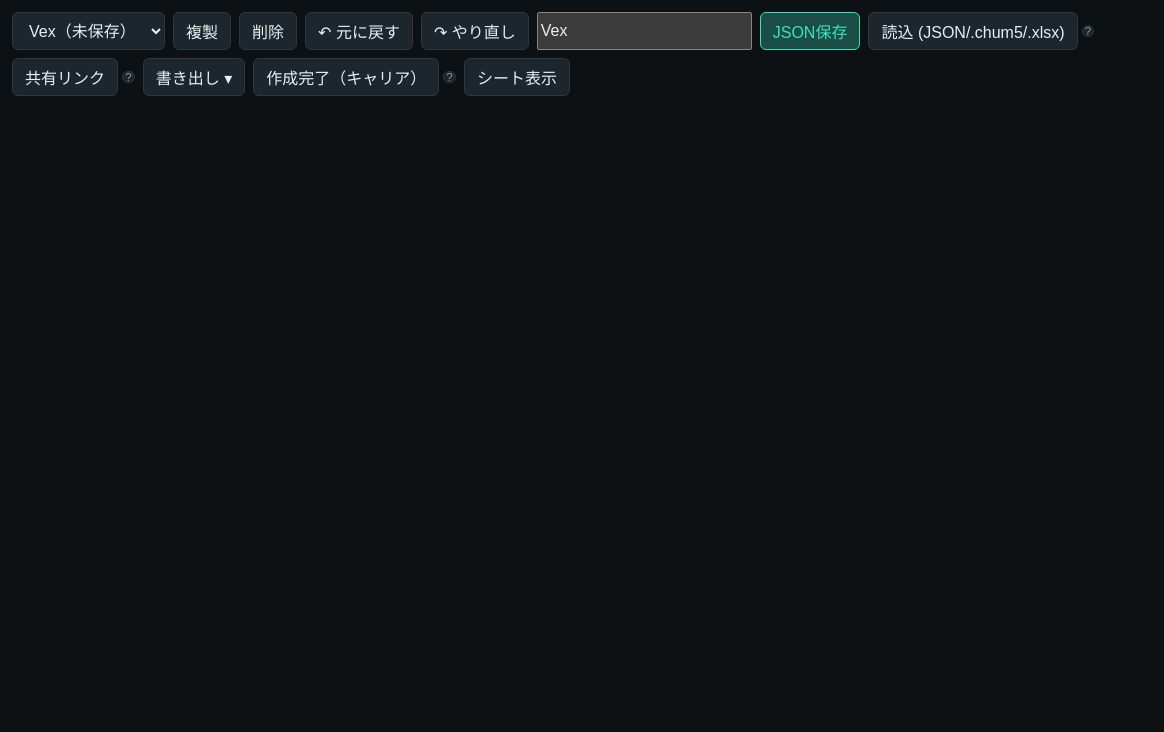
Test: <Toolbar> › keeps the conversions behind 書き出し, and closes it again
Expected: the button ".chum5書出" is not shown
Expected: the button ".xlsx書出" is not shown
Click the button "書き出し ▾".
click(194, 77)  # box top-left (143, 58), bottom-right (245, 96)
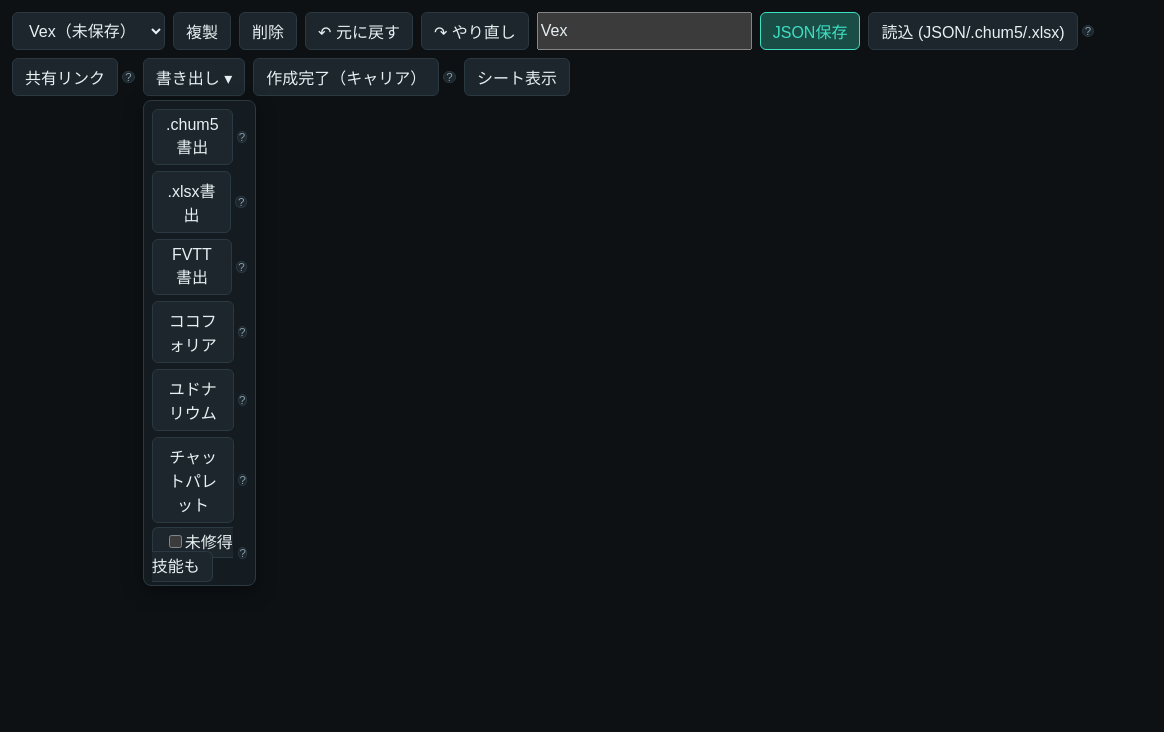
Result: the button ".chum5書出" is shown at top-left (152, 109), bottom-right (233, 165)
Click the button named ".xlsx書出 の説明".
click(241, 202)  # box top-left (235, 196), bottom-right (247, 208)
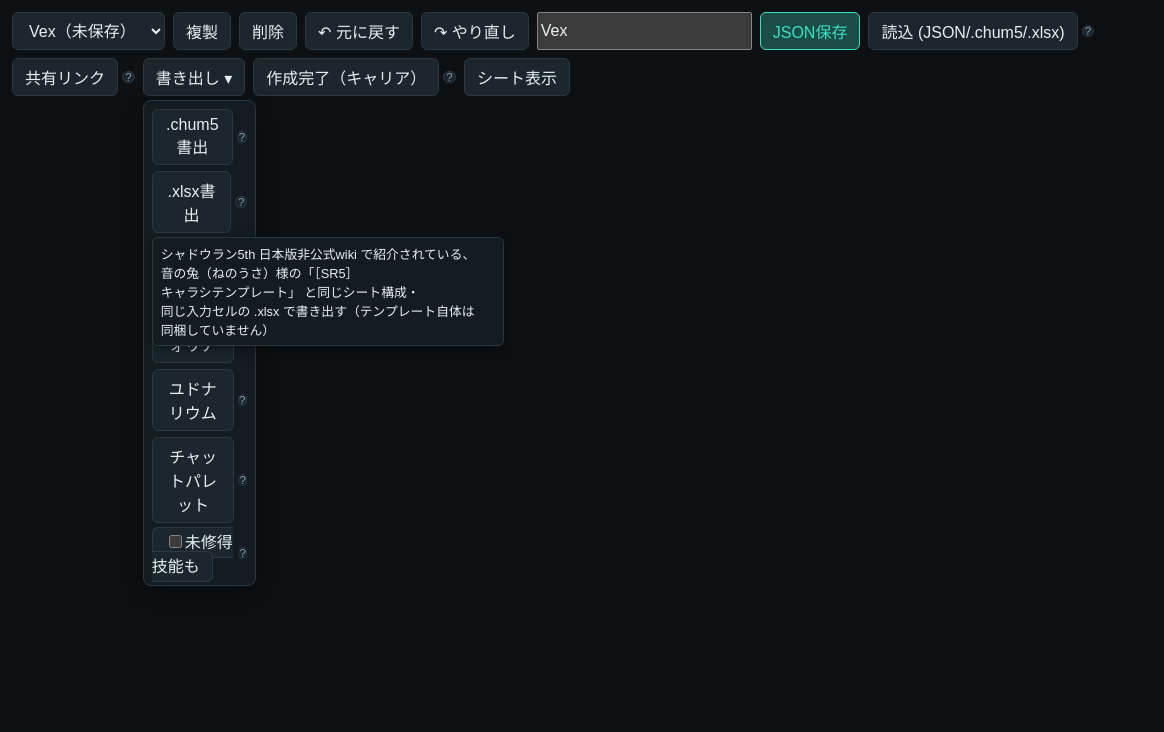
Press Escape
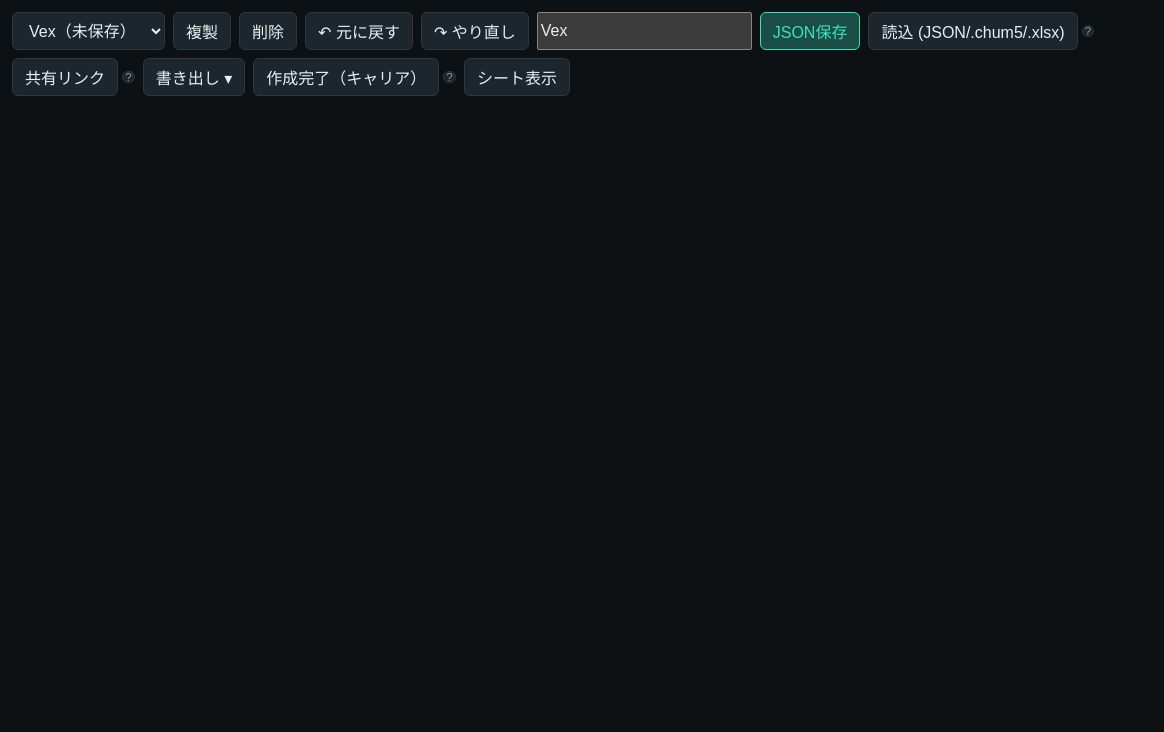
Result: the button ".chum5書出" is gone
Click the button "書き出し ▾".
click(194, 77)  # box top-left (143, 58), bottom-right (245, 96)
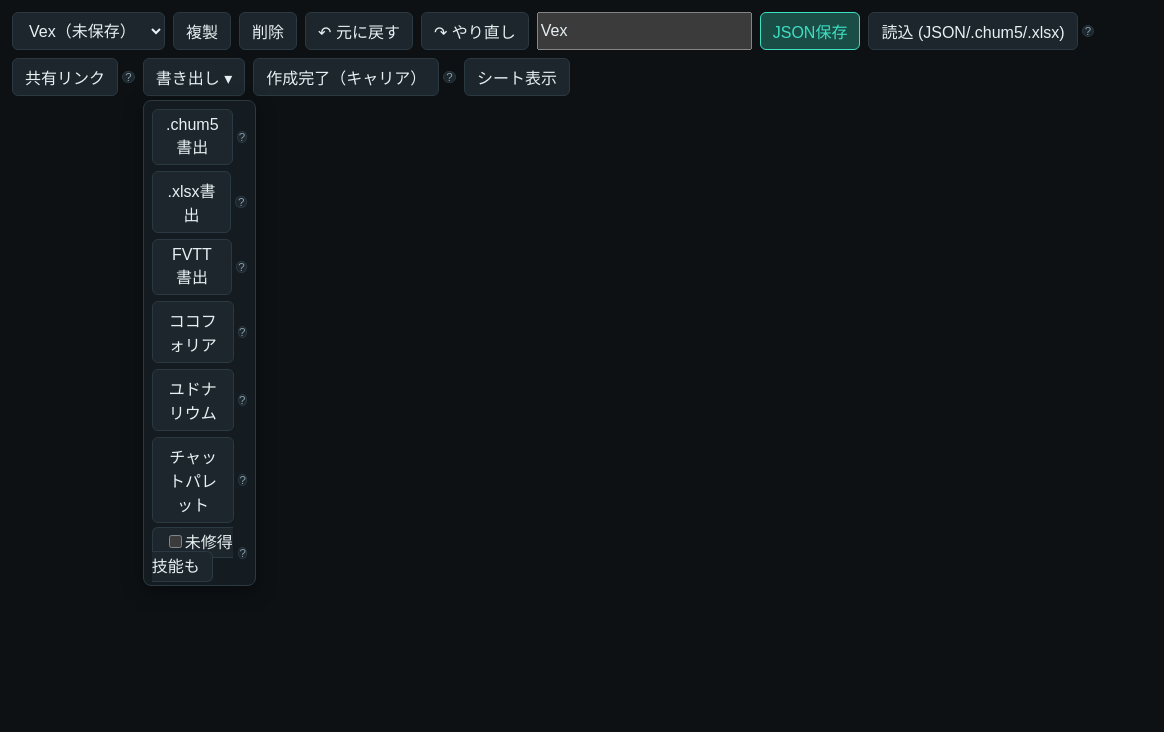
Press the mouse on the element that starts with "↶ 元に戻す" at (588, 54), box top-left (12, 12), bottom-right (1163, 96)
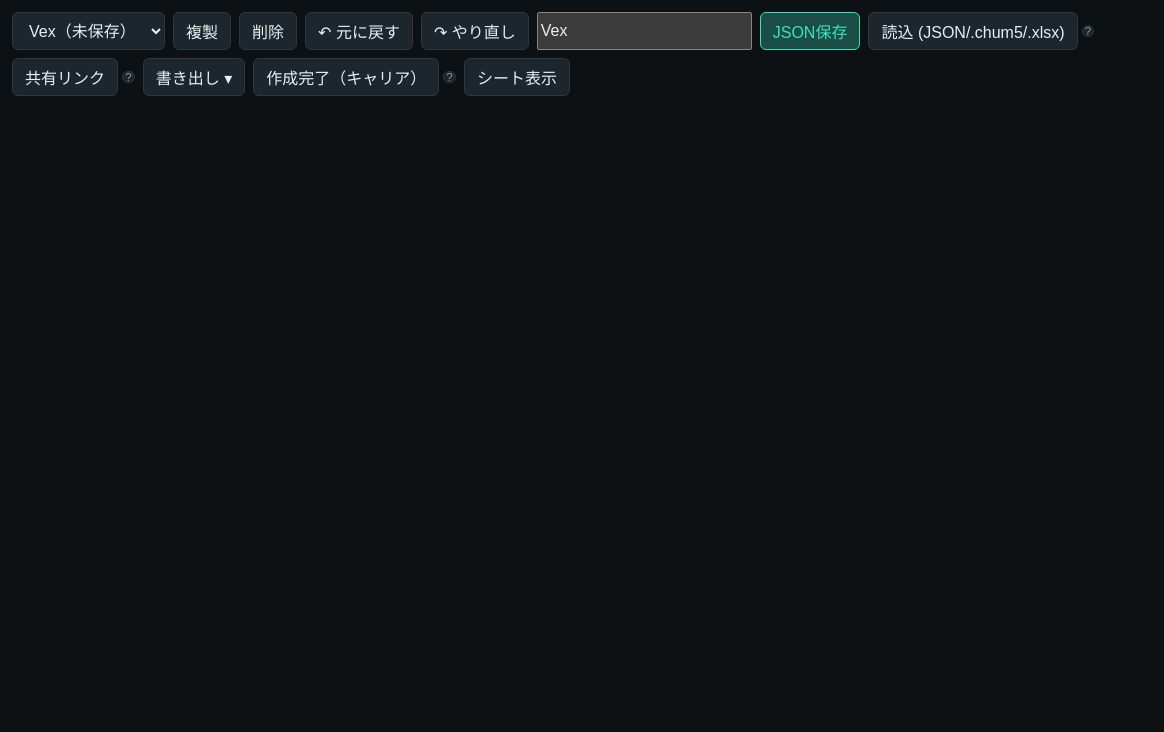
Result: the button ".chum5書出" is gone
